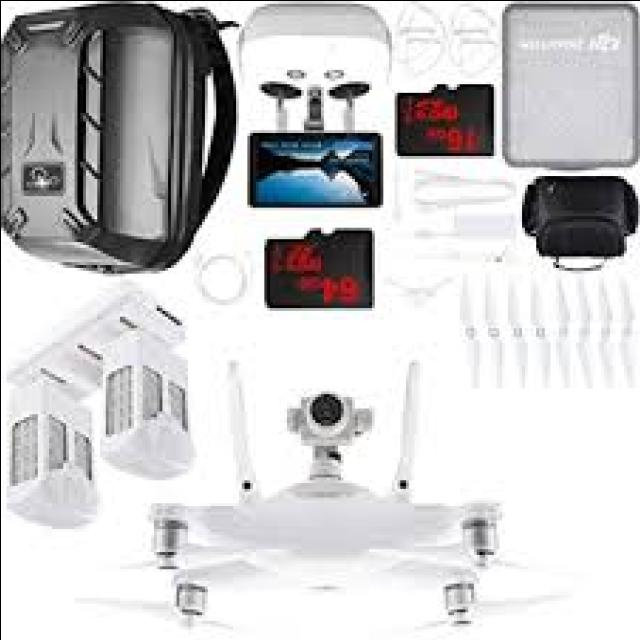drone: (107, 346, 581, 625)
